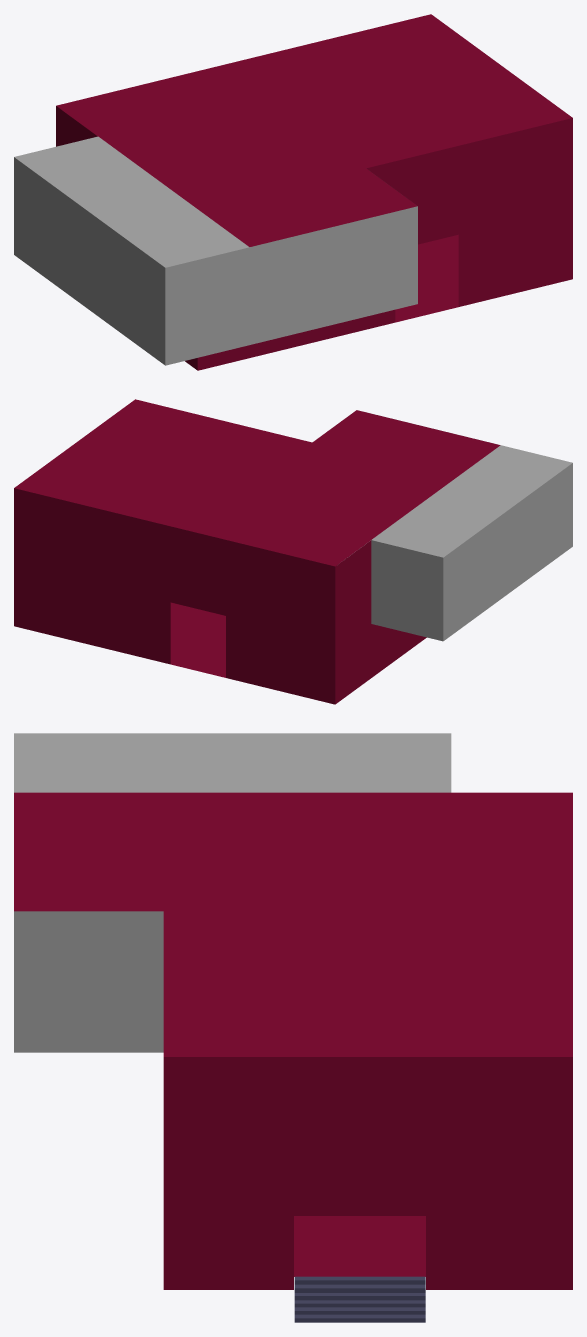
File: Casino Solo.fbx
3 renders of one model, top to bottom at view 1: azimuth 30°, elevation 25°; view 2: azimuth 150°, elevation 25°; view 3: azimuth 270°, elevation 25°, orthographic. The views are drawn at different scales.
Parts seen in each view (by area): view 1: pPlane4; view 2: pPlane4; view 3: pPlane4, pCube4.
Boxes of the visible parts, bbox=[...] form: pPlane4: bbox=[14, 14, 572, 370]; pPlane4: bbox=[14, 399, 572, 704]; pPlane4: bbox=[14, 733, 572, 1289]; pCube4: bbox=[294, 1276, 425, 1322].
Size of the model in its own units: 88.31 by 32.02 by 62.89.
